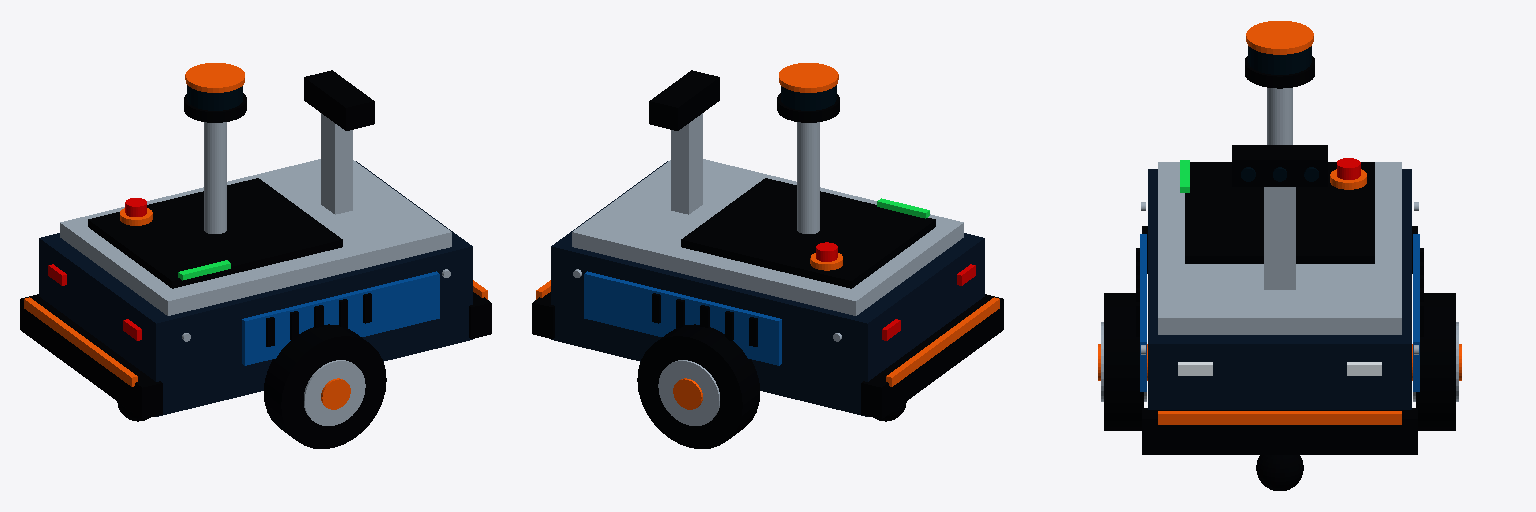
The robot description file, URDF, robot "warehouse_amr":
<?xml version='1.0' encoding='utf-8'?>
<robot name="warehouse_amr">
  <material name="navy">
    <color rgba=".055 .11 .18 1" />
  </material>
  <material name="silver">
    <color rgba=".65 .70 .75 1" />
  </material>
  <material name="black">
    <color rgba=".025 .03 .04 1" />
  </material>
  <material name="orange">
    <color rgba="1 .38 .035 1" />
  </material>
  <material name="blue">
    <color rgba=".04 .35 .65 1" />
  </material>
  <material name="lens">
    <color rgba=".02 .08 .12 1" />
  </material>
  <material name="green">
    <color rgba=".1 .95 .35 1" />
  </material>
  <material name="red">
    <color rgba=".9 .025 .02 1" />
  </material>
  <material name="white">
    <color rgba=".9 .93 .95 1" />
  </material>
  <link name="base_footprint" />
  <link name="base_link">
    <inertial>
      <mass value="28" />
      <inertia ixx="0.65" iyy="1.15" izz="1.45" ixy="0" ixz="0" iyz="0" />
    </inertial>
    <visual name="chassis">
      <origin xyz="0 0 0" rpy="0 0 0" />
      <geometry>
        <box size="0.78 0.5 0.22" />
      </geometry>
      <material name="navy" />
    </visual>
    <collision name="chassis_collision">
      <origin xyz="0 0 0" rpy="0 0 0" />
      <geometry>
        <box size="0.78 0.5 0.22" />
      </geometry>
    </collision>
    <visual name="upper_cover">
      <origin xyz="0 0 0.1275" rpy="0 0 0" />
      <geometry>
        <box size="0.7 0.46 0.035" />
      </geometry>
      <material name="silver" />
    </visual>
    <visual name="payload_deck">
      <origin xyz="-0.1 0 0.154" rpy="0 0 0" />
      <geometry>
        <box size="0.42 0.36 0.018" />
      </geometry>
      <material name="black" />
    </visual>
    <visual name="bumper_-0.405">
      <origin xyz="-0.405 0 -0.065" rpy="0 0 0" />
      <geometry>
        <box size="0.05 0.52 0.075" />
      </geometry>
      <material name="black" />
    </visual>
    <collision name="bumper_-0.405_collision">
      <origin xyz="-0.405 0 -0.065" rpy="0 0 0" />
      <geometry>
        <box size="0.05 0.52 0.075" />
      </geometry>
    </collision>
    <visual name="orange_trim_-0.405">
      <origin xyz="-0.431325 0 -0.025" rpy="0 0 0" />
      <geometry>
        <box size="0.015 0.46 0.022" />
      </geometry>
      <material name="orange" />
    </visual>
    <visual name="bumper_0.405">
      <origin xyz="0.405 0 -0.065" rpy="0 0 0" />
      <geometry>
        <box size="0.05 0.52 0.075" />
      </geometry>
      <material name="black" />
    </visual>
    <collision name="bumper_0.405_collision">
      <origin xyz="0.405 0 -0.065" rpy="0 0 0" />
      <geometry>
        <box size="0.05 0.52 0.075" />
      </geometry>
    </collision>
    <visual name="orange_trim_0.405">
      <origin xyz="0.431325 0 -0.025" rpy="0 0 0" />
      <geometry>
        <box size="0.015 0.46 0.022" />
      </geometry>
      <material name="orange" />
    </visual>
    <visual name="side_panel_-0.258">
      <origin xyz="0.06 -0.258 0.02" rpy="0 0 0" />
      <geometry>
        <box size="0.48 0.014 0.105" />
      </geometry>
      <material name="blue" />
    </visual>
    <visual name="vent_-0.12_-0.258">
      <origin xyz="-0.12 -0.26444999999999996 0.035" rpy="0 0 0" />
      <geometry>
        <box size="0.018 0.017 0.065" />
      </geometry>
      <material name="black" />
    </visual>
    <visual name="vent_-0.06_-0.258">
      <origin xyz="-0.06 -0.26444999999999996 0.035" rpy="0 0 0" />
      <geometry>
        <box size="0.018 0.017 0.065" />
      </geometry>
      <material name="black" />
    </visual>
    <visual name="vent_0_-0.258">
      <origin xyz="0 -0.26444999999999996 0.035" rpy="0 0 0" />
      <geometry>
        <box size="0.018 0.017 0.065" />
      </geometry>
      <material name="black" />
    </visual>
    <visual name="vent_0.06_-0.258">
      <origin xyz="0.06 -0.26444999999999996 0.035" rpy="0 0 0" />
      <geometry>
        <box size="0.018 0.017 0.065" />
      </geometry>
      <material name="black" />
    </visual>
    <visual name="vent_0.12_-0.258">
      <origin xyz="0.12 -0.26444999999999996 0.035" rpy="0 0 0" />
      <geometry>
        <box size="0.018 0.017 0.065" />
      </geometry>
      <material name="black" />
    </visual>
    <visual name="bolt_-0.32_-0.258">
      <origin xyz="-0.32 -0.258 0.065" rpy="1.5707963267948966 0 0" />
      <geometry>
        <cylinder radius="0.009" length="0.008" />
      </geometry>
      <material name="silver" />
    </visual>
    <visual name="bolt_0.32_-0.258">
      <origin xyz="0.32 -0.258 0.065" rpy="1.5707963267948966 0 0" />
      <geometry>
        <cylinder radius="0.009" length="0.008" />
      </geometry>
      <material name="silver" />
    </visual>
    <visual name="side_panel_0.258">
      <origin xyz="0.06 0.258 0.02" rpy="0 0 0" />
      <geometry>
        <box size="0.48 0.014 0.105" />
      </geometry>
      <material name="blue" />
    </visual>
    <visual name="vent_-0.12_0.258">
      <origin xyz="-0.12 0.26444999999999996 0.035" rpy="0 0 0" />
      <geometry>
        <box size="0.018 0.017 0.065" />
      </geometry>
      <material name="black" />
    </visual>
    <visual name="vent_-0.06_0.258">
      <origin xyz="-0.06 0.26444999999999996 0.035" rpy="0 0 0" />
      <geometry>
        <box size="0.018 0.017 0.065" />
      </geometry>
      <material name="black" />
    </visual>
    <visual name="vent_0_0.258">
      <origin xyz="0 0.26444999999999996 0.035" rpy="0 0 0" />
      <geometry>
        <box size="0.018 0.017 0.065" />
      </geometry>
      <material name="black" />
    </visual>
    <visual name="vent_0.06_0.258">
      <origin xyz="0.06 0.26444999999999996 0.035" rpy="0 0 0" />
      <geometry>
        <box size="0.018 0.017 0.065" />
      </geometry>
      <material name="black" />
    </visual>
    <visual name="vent_0.12_0.258">
      <origin xyz="0.12 0.26444999999999996 0.035" rpy="0 0 0" />
      <geometry>
        <box size="0.018 0.017 0.065" />
      </geometry>
      <material name="black" />
    </visual>
    <visual name="bolt_-0.32_0.258">
      <origin xyz="-0.32 0.258 0.065" rpy="1.5707963267948966 0 0" />
      <geometry>
        <cylinder radius="0.009" length="0.008" />
      </geometry>
      <material name="silver" />
    </visual>
    <visual name="bolt_0.32_0.258">
      <origin xyz="0.32 0.258 0.065" rpy="1.5707963267948966 0 0" />
      <geometry>
        <cylinder radius="0.009" length="0.008" />
      </geometry>
      <material name="silver" />
    </visual>
    <visual name="front_light_-0.16">
      <origin xyz="0.395 -0.16 0.06" rpy="0 0 0" />
      <geometry>
        <box size="0.014 0.065 0.025" />
      </geometry>
      <material name="white" />
    </visual>
    <visual name="rear_light_-0.16">
      <origin xyz="-0.395 -0.16 0.06" rpy="0 0 0" />
      <geometry>
        <box size="0.014 0.06 0.025" />
      </geometry>
      <material name="red" />
    </visual>
    <visual name="front_light_0.16">
      <origin xyz="0.395 0.16 0.06" rpy="0 0 0" />
      <geometry>
        <box size="0.014 0.065 0.025" />
      </geometry>
      <material name="white" />
    </visual>
    <visual name="rear_light_0.16">
      <origin xyz="-0.395 0.16 0.06" rpy="0 0 0" />
      <geometry>
        <box size="0.014 0.06 0.025" />
      </geometry>
      <material name="red" />
    </visual>
    <visual name="emergency_stop_base">
      <origin xyz="-0.22 0.13 0.17" rpy="0 0 0" />
      <geometry>
        <cylinder radius="0.035" length="0.015" />
      </geometry>
      <material name="orange" />
    </visual>
    <visual name="emergency_stop">
      <origin xyz="-0.22 0.13 0.19" rpy="0 0 0" />
      <geometry>
        <cylinder radius="0.023" length="0.025" />
      </geometry>
      <material name="red" />
    </visual>
    <visual name="status_strip">
      <origin xyz="-0.23 -0.18 0.17" rpy="0 0 0" />
      <geometry>
        <box size="0.12 0.018 0.013" />
      </geometry>
      <material name="green" />
    </visual>
    <visual name="camera_mast">
      <origin xyz="0.2 0 0.25" rpy="0 0 0" />
      <geometry>
        <box size="0.045 0.06 0.25" />
      </geometry>
      <material name="silver" />
    </visual>
    <collision name="camera_mast_collision">
      <origin xyz="0.2 0 0.25" rpy="0 0 0" />
      <geometry>
        <box size="0.045 0.06 0.25" />
      </geometry>
    </collision>
    <visual name="lidar_pedestal">
      <origin xyz="-0.1 0 0.3" rpy="0 0 0" />
      <geometry>
        <cylinder radius="0.025" length="0.3" />
      </geometry>
      <material name="silver" />
    </visual>
    <collision name="lidar_pedestal_collision">
      <origin xyz="-0.1 0 0.3" rpy="0 0 0" />
      <geometry>
        <cylinder radius="0.025" length="0.3" />
      </geometry>
    </collision>
  </link>
  <joint name="base_joint" type="fixed">
    <parent link="base_footprint" />
    <child link="base_link" />
    <origin xyz="0 0 0.24" rpy="0 0 0" />
  </joint>
  <link name="left_wheel_link">
    <inertial>
      <mass value="1.3" />
      <inertia ixx="0.0065" iyy="0.011" izz="0.0065" ixy="0" ixz="0" iyz="0" />
    </inertial>
    <visual name="tire">
      <origin xyz="0 0 0" rpy="1.5707963267948966 0 0" />
      <geometry>
        <cylinder radius="0.13" length="0.075" />
      </geometry>
      <material name="black" />
    </visual>
    <collision name="tire_collision">
      <origin xyz="0 0 0" rpy="1.5707963267948966 0 0" />
      <geometry>
        <cylinder radius="0.13" length="0.075" />
      </geometry>
    </collision>
    <visual name="hub_-1">
      <origin xyz="0 -0.04 0" rpy="1.5707963267948966 0 0" />
      <geometry>
        <cylinder radius="0.075" length="0.006" />
      </geometry>
      <material name="silver" />
    </visual>
    <visual name="hub_cap_-1">
      <origin xyz="0 -0.044 0" rpy="1.5707963267948966 0 0" />
      <geometry>
        <cylinder radius="0.035" length="0.01" />
      </geometry>
      <material name="orange" />
    </visual>
    <visual name="hub_1">
      <origin xyz="0 0.04 0" rpy="1.5707963267948966 0 0" />
      <geometry>
        <cylinder radius="0.075" length="0.006" />
      </geometry>
      <material name="silver" />
    </visual>
    <visual name="hub_cap_1">
      <origin xyz="0 0.044 0" rpy="1.5707963267948966 0 0" />
      <geometry>
        <cylinder radius="0.035" length="0.01" />
      </geometry>
      <material name="orange" />
    </visual>
  </link>
  <joint name="left_wheel_joint" type="continuous">
    <parent link="base_link" />
    <child link="left_wheel_link" />
    <origin xyz="0 0.295 -0.11" rpy="0 0 0" />
    <axis xyz="0 1 0" />
    <dynamics damping=".05" friction="0" />
  </joint>
  <gazebo reference="left_wheel_link">
    <mu1>1.0</mu1>
    <mu2>1.0</mu2>
  </gazebo>
  <link name="right_wheel_link">
    <inertial>
      <mass value="1.3" />
      <inertia ixx="0.0065" iyy="0.011" izz="0.0065" ixy="0" ixz="0" iyz="0" />
    </inertial>
    <visual name="tire">
      <origin xyz="0 0 0" rpy="1.5707963267948966 0 0" />
      <geometry>
        <cylinder radius="0.13" length="0.075" />
      </geometry>
      <material name="black" />
    </visual>
    <collision name="tire_collision">
      <origin xyz="0 0 0" rpy="1.5707963267948966 0 0" />
      <geometry>
        <cylinder radius="0.13" length="0.075" />
      </geometry>
    </collision>
    <visual name="hub_-1">
      <origin xyz="0 -0.04 0" rpy="1.5707963267948966 0 0" />
      <geometry>
        <cylinder radius="0.075" length="0.006" />
      </geometry>
      <material name="silver" />
    </visual>
    <visual name="hub_cap_-1">
      <origin xyz="0 -0.044 0" rpy="1.5707963267948966 0 0" />
      <geometry>
        <cylinder radius="0.035" length="0.01" />
      </geometry>
      <material name="orange" />
    </visual>
    <visual name="hub_1">
      <origin xyz="0 0.04 0" rpy="1.5707963267948966 0 0" />
      <geometry>
        <cylinder radius="0.075" length="0.006" />
      </geometry>
      <material name="silver" />
    </visual>
    <visual name="hub_cap_1">
      <origin xyz="0 0.044 0" rpy="1.5707963267948966 0 0" />
      <geometry>
        <cylinder radius="0.035" length="0.01" />
      </geometry>
      <material name="orange" />
    </visual>
  </link>
  <joint name="right_wheel_joint" type="continuous">
    <parent link="base_link" />
    <child link="right_wheel_link" />
    <origin xyz="0 -0.295 -0.11" rpy="0 0 0" />
    <axis xyz="0 1 0" />
    <dynamics damping=".05" friction="0" />
  </joint>
  <gazebo reference="right_wheel_link">
    <mu1>1.0</mu1>
    <mu2>1.0</mu2>
  </gazebo>
  <link name="front_caster_link">
    <inertial>
      <mass value="0.25" />
      <inertia ixx="0.00025" iyy="0.00025" izz="0.00025" ixy="0" ixz="0" iyz="0" />
    </inertial>
    <visual name="caster_ball">
      <origin xyz="0 0 0" rpy="0 0 0" />
      <geometry>
        <sphere radius="0.045" />
      </geometry>
      <material name="black" />
    </visual>
    <collision name="caster_ball_collision">
      <origin xyz="0 0 0" rpy="0 0 0" />
      <geometry>
        <sphere radius="0.045" />
      </geometry>
    </collision>
  </link>
  <joint name="front_caster_joint" type="fixed">
    <parent link="base_link" />
    <child link="front_caster_link" />
    <origin xyz="0.29 0 -0.195" rpy="0 0 0" />
  </joint>
  <gazebo reference="front_caster_link">
    <mu1>.001</mu1>
    <mu2>.001</mu2>
  </gazebo>
  <link name="rear_caster_link">
    <inertial>
      <mass value="0.25" />
      <inertia ixx="0.00025" iyy="0.00025" izz="0.00025" ixy="0" ixz="0" iyz="0" />
    </inertial>
    <visual name="caster_ball">
      <origin xyz="0 0 0" rpy="0 0 0" />
      <geometry>
        <sphere radius="0.045" />
      </geometry>
      <material name="black" />
    </visual>
    <collision name="caster_ball_collision">
      <origin xyz="0 0 0" rpy="0 0 0" />
      <geometry>
        <sphere radius="0.045" />
      </geometry>
    </collision>
  </link>
  <joint name="rear_caster_joint" type="fixed">
    <parent link="base_link" />
    <child link="rear_caster_link" />
    <origin xyz="-0.29 0 -0.195" rpy="0 0 0" />
  </joint>
  <gazebo reference="rear_caster_link">
    <mu1>.001</mu1>
    <mu2>.001</mu2>
  </gazebo>
  <link name="camera_link">
    <inertial>
      <mass value="0.3" />
      <inertia ixx="0.0005" iyy="0.0006" izz="0.0008" ixy="0" ixz="0" iyz="0" />
    </inertial>
    <visual name="camera_housing">
      <origin xyz="-0.035 0 0" rpy="0 0 0" />
      <geometry>
        <box size="0.07 0.18 0.055" />
      </geometry>
      <material name="black" />
    </visual>
    <collision name="camera_housing_collision">
      <origin xyz="-0.035 0 0" rpy="0 0 0" />
      <geometry>
        <box size="0.07 0.18 0.055" />
      </geometry>
    </collision>
    <visual name="lens_-0.06">
      <origin xyz="0.004 -0.06 0" rpy="0 1.5707963267948966 0" />
      <geometry>
        <cylinder radius="0.014" length="0.006" />
      </geometry>
      <material name="lens" />
    </visual>
    <visual name="lens_0">
      <origin xyz="0.004 0 0" rpy="0 1.5707963267948966 0" />
      <geometry>
        <cylinder radius="0.014" length="0.006" />
      </geometry>
      <material name="lens" />
    </visual>
    <visual name="lens_0.06">
      <origin xyz="0.004 0.06 0" rpy="0 1.5707963267948966 0" />
      <geometry>
        <cylinder radius="0.014" length="0.006" />
      </geometry>
      <material name="lens" />
    </visual>
  </link>
  <joint name="camera_joint" type="fixed">
    <parent link="base_link" />
    <child link="camera_link" />
    <origin xyz="0.24 0 0.395" rpy="0 0 0" />
  </joint>
  <link name="camera_optical_frame" />
  <joint name="camera_optical_joint" type="fixed">
    <parent link="camera_link" />
    <child link="camera_optical_frame" />
    <origin xyz="0 0 0" rpy="-1.5707963267948966 0 -1.5707963267948966" />
  </joint>
  <link name="lidar_link">
    <inertial>
      <mass value="0.3" />
      <inertia ixx="0.0005" iyy="0.0005" izz="0.0008" ixy="0" ixz="0" iyz="0" />
    </inertial>
    <visual name="lidar_base">
      <origin xyz="0 0 -0.0325" rpy="0 0 0" />
      <geometry>
        <cylinder radius="0.067" length="0.025" />
      </geometry>
      <material name="black" />
    </visual>
    <collision name="lidar_base_collision">
      <origin xyz="0 0 -0.0325" rpy="0 0 0" />
      <geometry>
        <cylinder radius="0.067" length="0.025" />
      </geometry>
    </collision>
    <visual name="lidar_window">
      <origin xyz="0 0 0" rpy="0 0 0" />
      <geometry>
        <cylinder radius="0.06" length="0.045" />
      </geometry>
      <material name="lens" />
    </visual>
    <collision name="lidar_window_collision">
      <origin xyz="0 0 0" rpy="0 0 0" />
      <geometry>
        <cylinder radius="0.06" length="0.045" />
      </geometry>
    </collision>
    <visual name="lidar_cap">
      <origin xyz="0 0 0.03" rpy="0 0 0" />
      <geometry>
        <cylinder radius="0.064" length="0.012" />
      </geometry>
      <material name="orange" />
    </visual>
  </link>
  <joint name="lidar_joint" type="fixed">
    <parent link="base_link" />
    <child link="lidar_link" />
    <origin xyz="-0.1 0 0.49" rpy="0 0 0" />
  </joint>
  <gazebo reference="lidar_link">
    <sensor name="lidar" type="gpu_lidar">
      <always_on>true</always_on>
      <update_rate>10</update_rate>
      <topic>/scan</topic>
      <gz_frame_id>lidar_link</gz_frame_id>
      <visualize>false</visualize>
      <lidar>
        <scan>
          <horizontal>
            <samples>360</samples>
            <resolution>1</resolution>
            <min_angle>-3.141592653589793</min_angle>
            <max_angle>3.141592653589793</max_angle>
          </horizontal>
        </scan>
        <range>
          <min>0.12</min>
          <max>12</max>
          <resolution>0.01</resolution>
        </range>
        <noise type="gaussian">
          <mean>0</mean>
          <stddev>0.005</stddev>
        </noise>
      </lidar>
    </sensor>
  </gazebo>
  <gazebo reference="camera_link">
    <sensor name="front_camera" type="camera">
      <always_on>true</always_on>
      <update_rate>5</update_rate>
      <topic>/camera/image_raw</topic>
      <gz_frame_id>camera_optical_frame</gz_frame_id>
      <camera>
        <horizontal_fov>1.3962634</horizontal_fov>
        <image>
          <width>640</width>
          <height>360</height>
          <format>R8G8B8</format>
        </image>
        <clip>
          <near>0.05</near>
          <far>20</far>
        </clip>
        <camera_info_topic>/camera/camera_info</camera_info_topic>
        <noise type="gaussian">
          <mean>0</mean>
          <stddev>0.003</stddev>
        </noise>
      </camera>
    </sensor>
  </gazebo>
  <gazebo>
    <plugin filename="gz-sim-diff-drive-system" name="gz::sim::systems::DiffDrive">
      <left_joint>left_wheel_joint</left_joint>
      <right_joint>right_wheel_joint</right_joint>
      <wheel_separation>0.59</wheel_separation>
      <wheel_radius>0.13</wheel_radius>
      <topic>/amr/cmd_vel</topic>
      <odom_topic>/odom</odom_topic>
      <tf_topic>/tf</tf_topic>
      <frame_id>odom</frame_id>
      <child_frame_id>base_footprint</child_frame_id>
      <odom_publish_frequency>30</odom_publish_frequency>
      <max_linear_velocity>0.5</max_linear_velocity>
      <min_linear_velocity>-0.3</min_linear_velocity>
      <max_angular_velocity>1.0</max_angular_velocity>
      <min_angular_velocity>-1.0</min_angular_velocity>
      <max_linear_acceleration>0.5</max_linear_acceleration>
      <min_linear_acceleration>-0.5</min_linear_acceleration>
    </plugin>
    <plugin filename="gz-sim-joint-state-publisher-system" name="gz::sim::systems::JointStatePublisher">
      <topic>/joint_states</topic>
      <joint_name>left_wheel_joint</joint_name>
      <joint_name>right_wheel_joint</joint_name>
    </plugin>
  </gazebo>
</robot>

--- What the picture shows (computed from the rendered views, not written in the file) ---
The picture shows the robot from 3 angles, left to right: view 1: azimuth 30°, elevation 25°; view 2: azimuth 150°, elevation 25°; view 3: azimuth 270°, elevation 25°; orthographic projection.
Robot: warehouse_amr — 9 links, 8 joints (2 continuous, 6 fixed); root link base_footprint; default pose: every joint at zero.
Visible links, largest first — view 1: base_link, right_wheel_link, lidar_link, camera_link; view 2: base_link, left_wheel_link, lidar_link, camera_link; view 3: base_link, left_wheel_link, right_wheel_link, lidar_link, camera_link, front_caster_link.
Boxes of the visible links, x1=… form: base_link: x1=20, y1=113, x2=491, y2=419; right_wheel_link: x1=264, y1=324, x2=386, y2=448; lidar_link: x1=184, y1=63, x2=246, y2=122; camera_link: x1=304, y1=70, x2=374, y2=130; base_link: x1=532, y1=113, x2=1003, y2=419; left_wheel_link: x1=637, y1=324, x2=759, y2=448; lidar_link: x1=777, y1=63, x2=839, y2=122; camera_link: x1=649, y1=70, x2=719, y2=130; base_link: x1=1136, y1=88, x2=1423, y2=454; left_wheel_link: x1=1412, y1=293, x2=1461, y2=430; right_wheel_link: x1=1098, y1=293, x2=1147, y2=430; lidar_link: x1=1245, y1=21, x2=1314, y2=88; camera_link: x1=1232, y1=145, x2=1327, y2=186; front_caster_link: x1=1256, y1=455, x2=1303, y2=490.
Size in the robot's own frame: 0.8777 by 0.688 by 0.766 metres.
Geometry: primitives only (box / cylinder / sphere), no mesh files.
